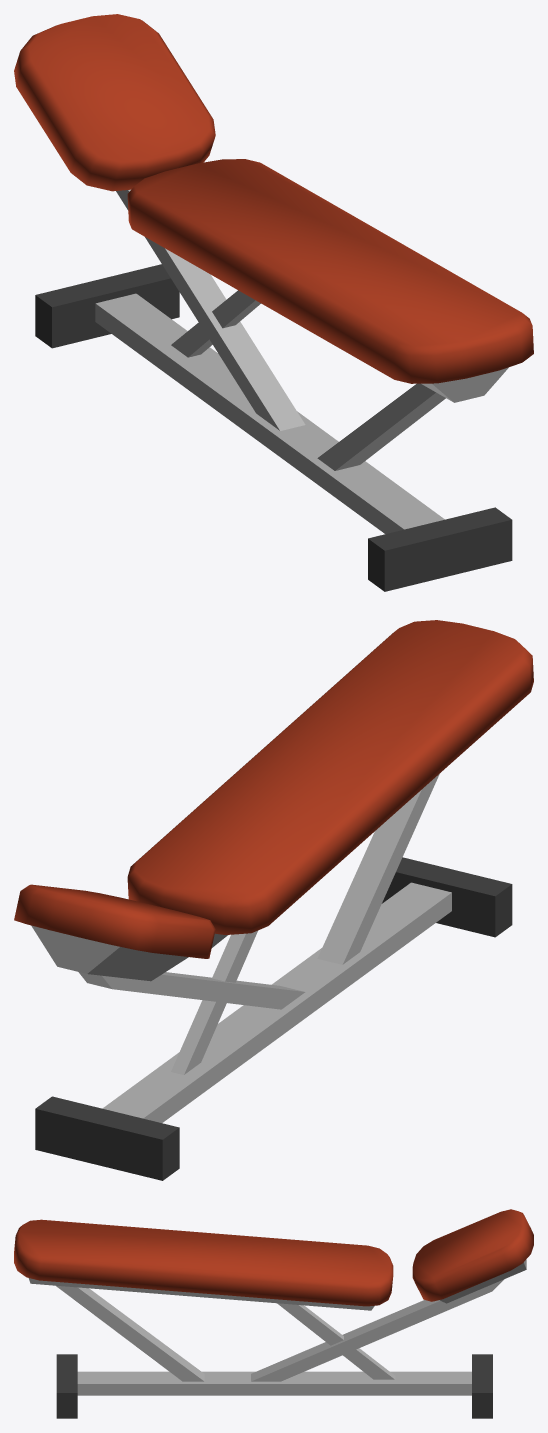
The model's file is bench_3.glb.
3 renders of one model, top to bottom at view 1: azimuth 30°, elevation 25°; view 2: azimuth 150°, elevation 25°; view 3: azimuth 270°, elevation 25°, orthographic. The views are drawn at different scales.
Parts seen in each view (by area): view 1: Bench_C; view 2: Bench_C; view 3: Bench_C.
Part boxes in pixels (x1,y1,x2,y2): Bench_C: (14,14,533,591); Bench_C: (14,620,533,1180); Bench_C: (14,1209,533,1418).
Bounding box in the file's own units: 0.3296 × 0.655 × 1.74.
Materials: 1 (1 with a texture image).
